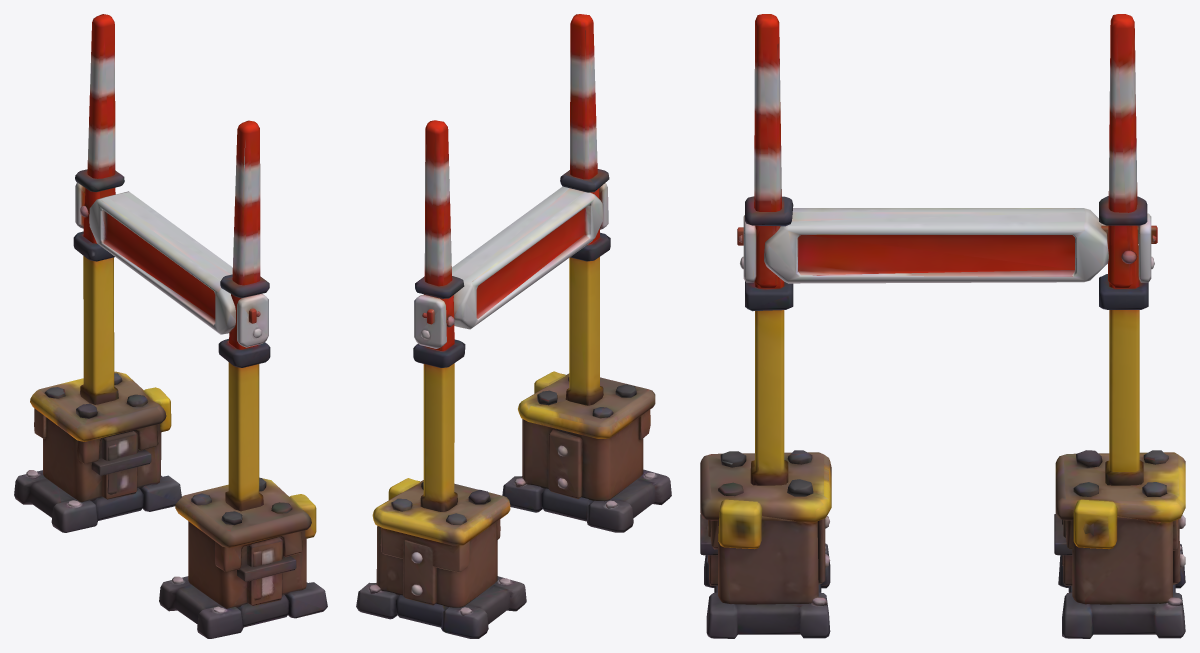
Rendered from barrier-high.glb.
3 views of the same model, side by side, from view 1: azimuth 30°, elevation 25°; view 2: azimuth 150°, elevation 25°; view 3: azimuth 270°, elevation 25° (orthographic). The views are drawn at different scales.
Parts seen in each view (by area): view 1: tripo_node_4d16e312-6d94-477d-a57a-1290a5e935a5; view 2: tripo_node_4d16e312-6d94-477d-a57a-1290a5e935a5; view 3: tripo_node_4d16e312-6d94-477d-a57a-1290a5e935a5.
Boxes of the visible parts, x1=… form: tripo_node_4d16e312-6d94-477d-a57a-1290a5e935a5: x1=14, y1=14, x2=327, y2=638; tripo_node_4d16e312-6d94-477d-a57a-1290a5e935a5: x1=356, y1=14, x2=671, y2=638; tripo_node_4d16e312-6d94-477d-a57a-1290a5e935a5: x1=700, y1=14, x2=1185, y2=638.
Bounding box in the file's own units: 0.2637 × 0.998 × 0.7441.
1 material, 1 textured.
